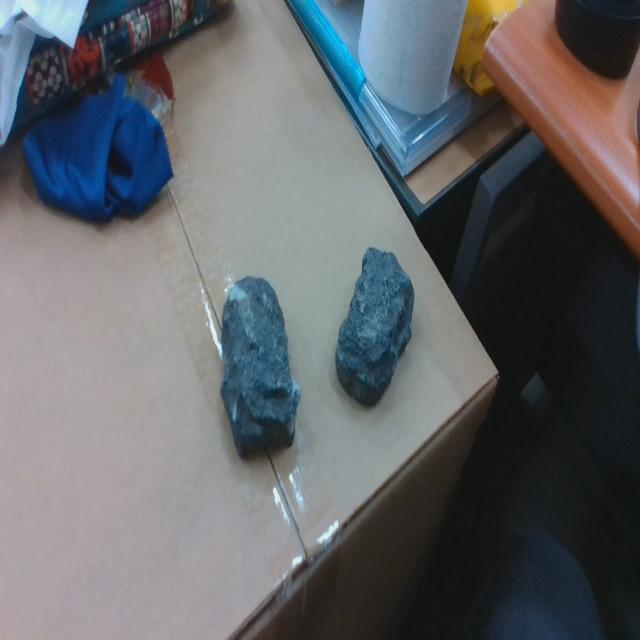stone: (221, 276, 301, 461), (335, 246, 414, 408)
